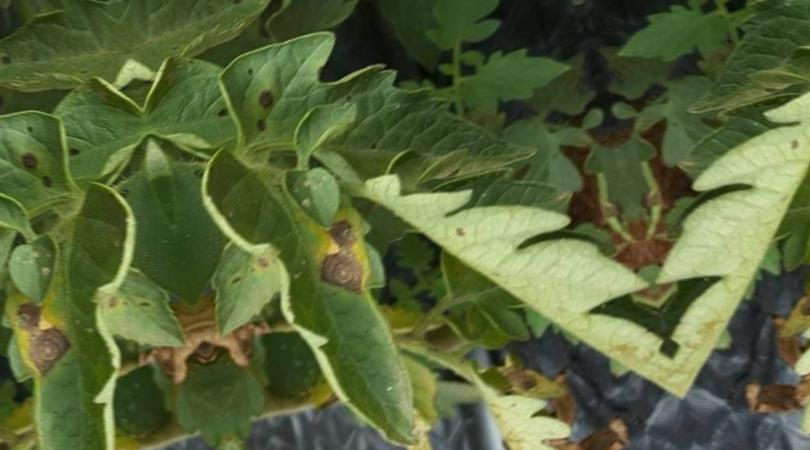Tomato Early blight leaf: (187, 117, 446, 450)
Tomato leaf: (221, 0, 384, 60), (387, 0, 524, 63)
